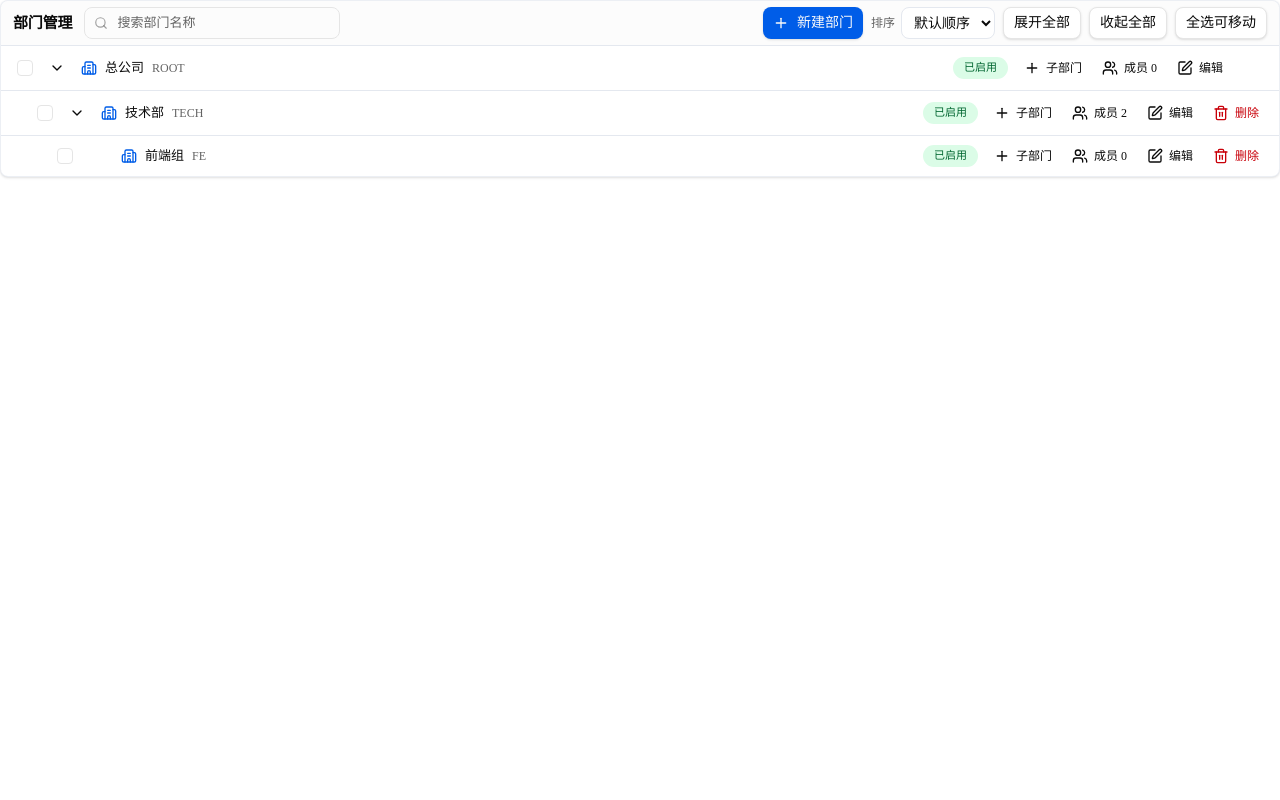
Scenario: U-ROLES03/U-DEP05 删除确认展示影响面 › departments 删除确认展示子部门/用户/角色数量
Click the button with aria-label "删除部门 技术部" at (1236, 113), box [1205,99,1267,127]
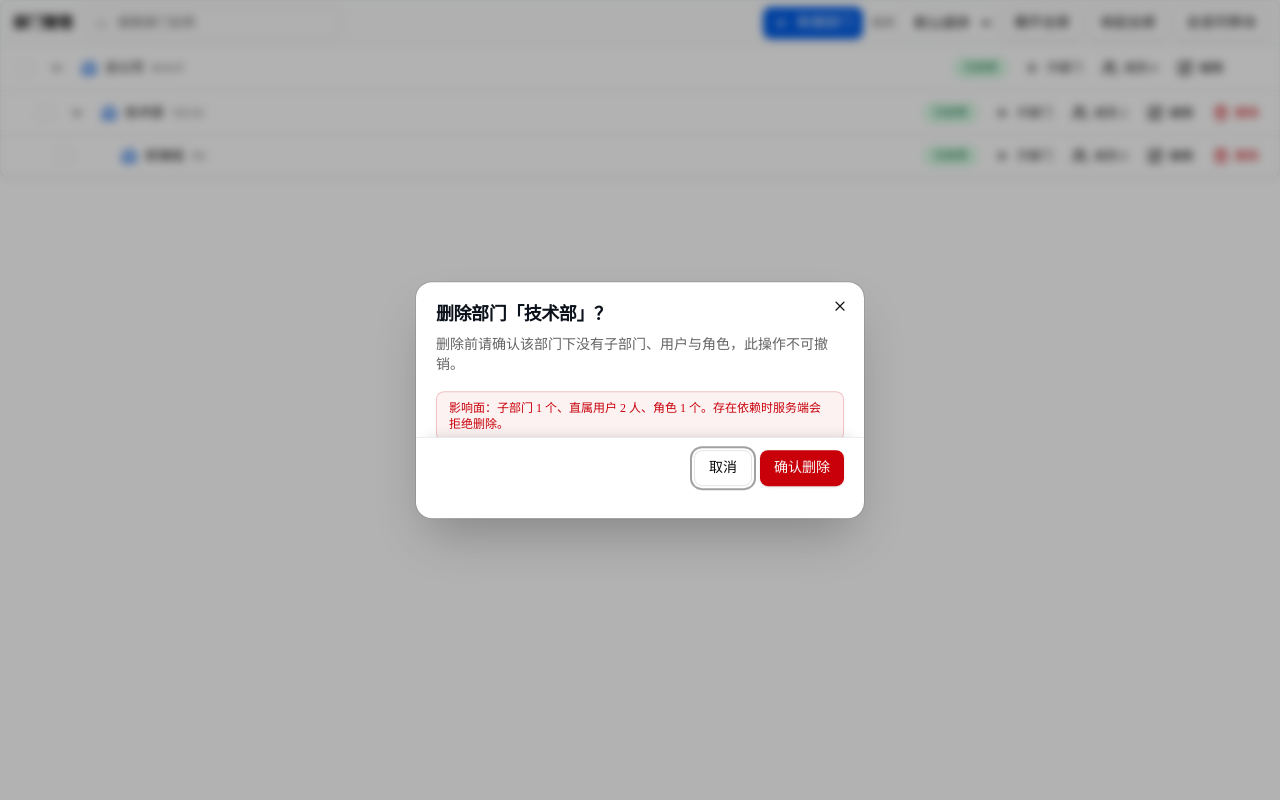
Now the text "影响面：子部门 1 个、直属用户 2 人、角色 1 个。存在依赖时服务端会拒绝删除。" is shown, box [436,391,844,441]
